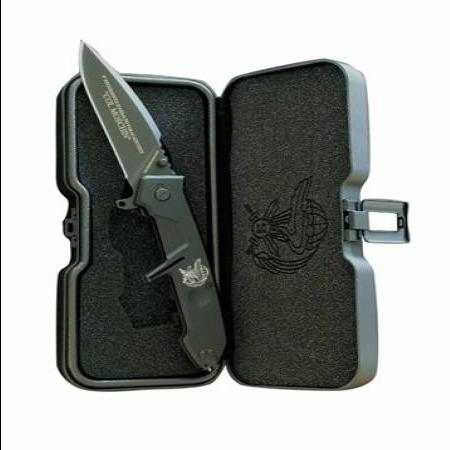long weapon: (77, 32, 187, 216)
